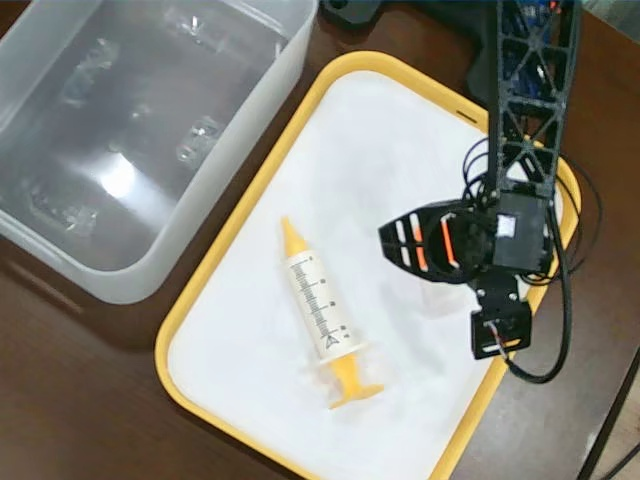syringe: (275, 213, 387, 408)
